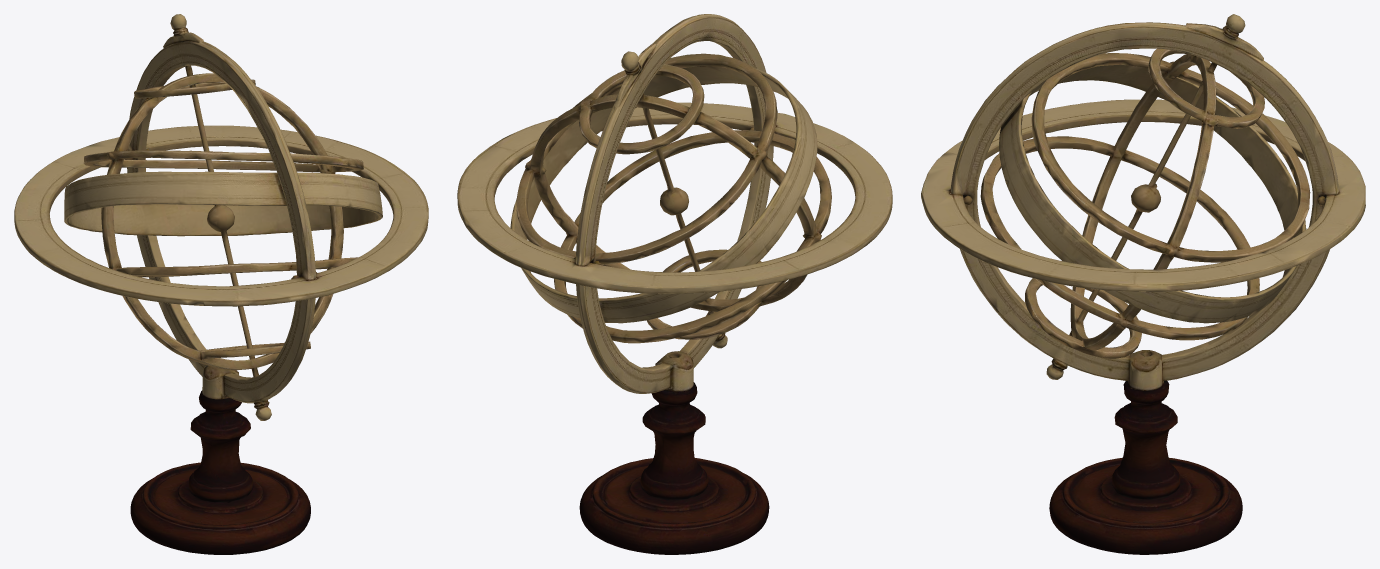
Rendered from armillary.glb.
3 renders of one model, left to right at view 1: azimuth 30°, elevation 25°; view 2: azimuth 150°, elevation 25°; view 3: azimuth 270°, elevation 25°, orthographic. The views are drawn at different scales.
Parts seen in each view (by area): view 1: tripo_node_dacf079f-6685-45f8-a421-468c4d4fbf14; view 2: tripo_node_dacf079f-6685-45f8-a421-468c4d4fbf14; view 3: tripo_node_dacf079f-6685-45f8-a421-468c4d4fbf14.
Part boxes in pixels (<box>): tripo_node_dacf079f-6685-45f8-a421-468c4d4fbf14: <box>14,14,428,554</box>; tripo_node_dacf079f-6685-45f8-a421-468c4d4fbf14: <box>457,14,892,554</box>; tripo_node_dacf079f-6685-45f8-a421-468c4d4fbf14: <box>921,14,1365,554</box>.
Size of the model in its own units: 0.4396 by 0.55 by 0.442.
Materials: 1 (1 with a texture image).
